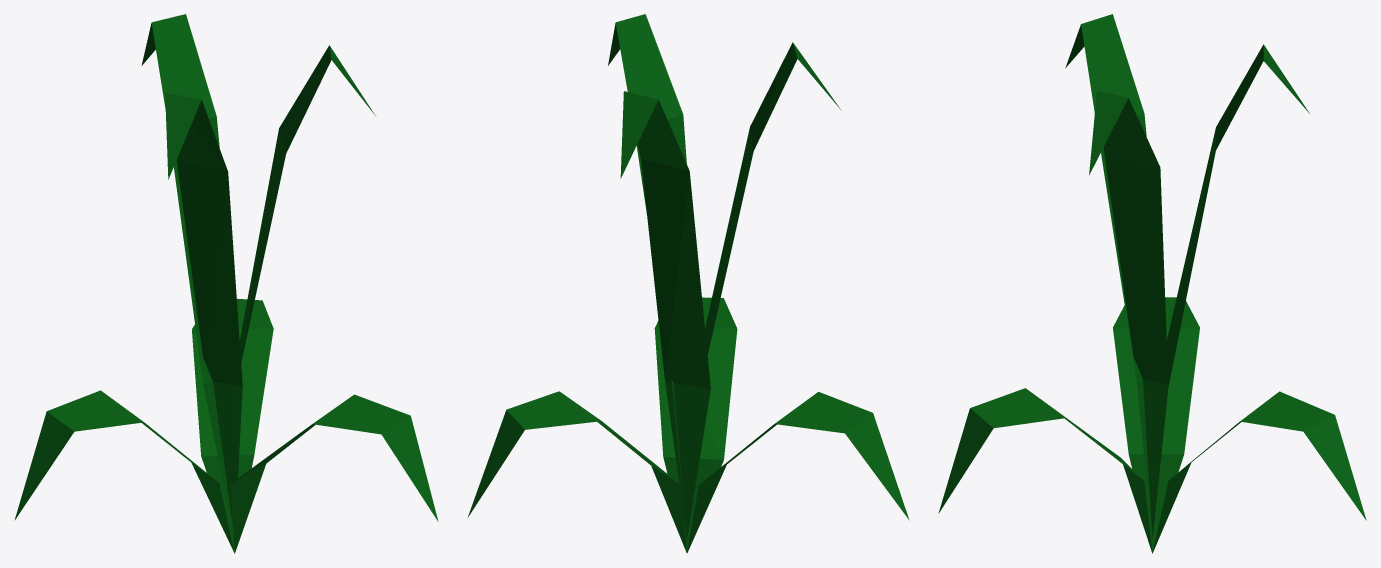
File: obj_potato_0.obj
The picture shows the model from 3 angles, left to right: view 1: azimuth 30°, elevation 25°; view 2: azimuth 150°, elevation 25°; view 3: azimuth 270°, elevation 25°; orthographic projection.
Size of the model in its own units: 0.375 by 0.5391 by 0.4219.
